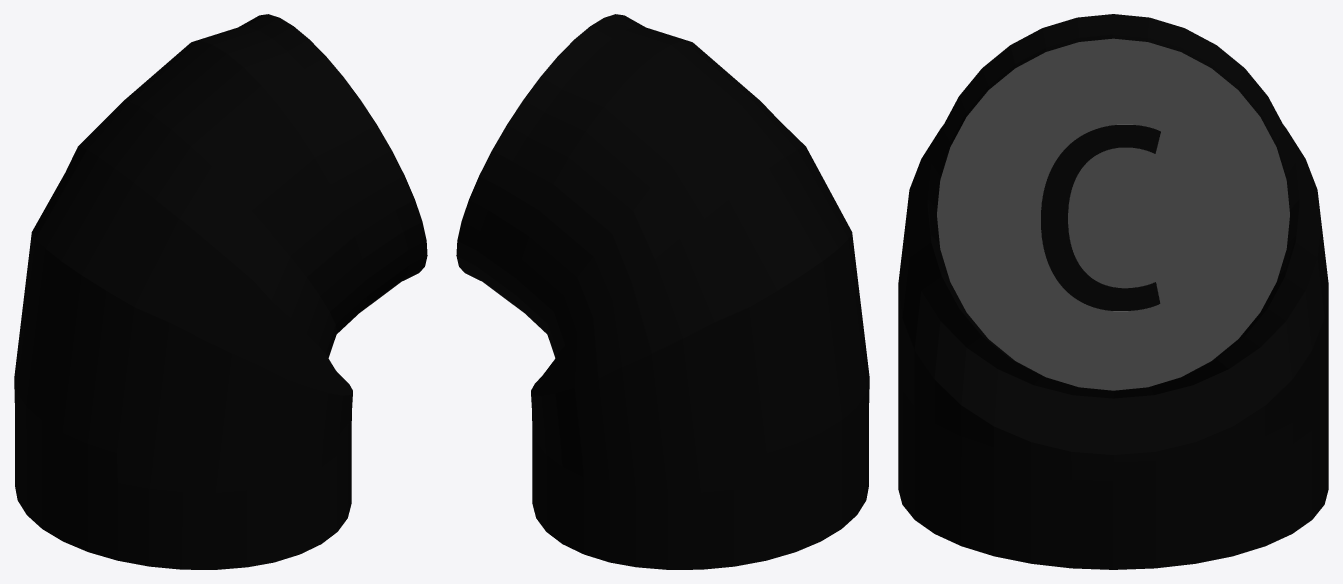
The picture shows the model from 3 angles, left to right: view 1: azimuth 30°, elevation 25°; view 2: azimuth 150°, elevation 25°; view 3: azimuth 270°, elevation 25°; orthographic projection. The views are drawn at different scales.
Visible parts, largest first — view 1: 圆环; view 2: 圆环; view 3: 圆环.
Part boxes in pixels (x1,y1,x2,y2): 圆环: (14,14,427,569); 圆环: (456,14,869,569); 圆环: (898,14,1328,569).
Bounding box in the file's own units: 261 × 321 × 244.
Materials: 3 (1 with a texture image).
